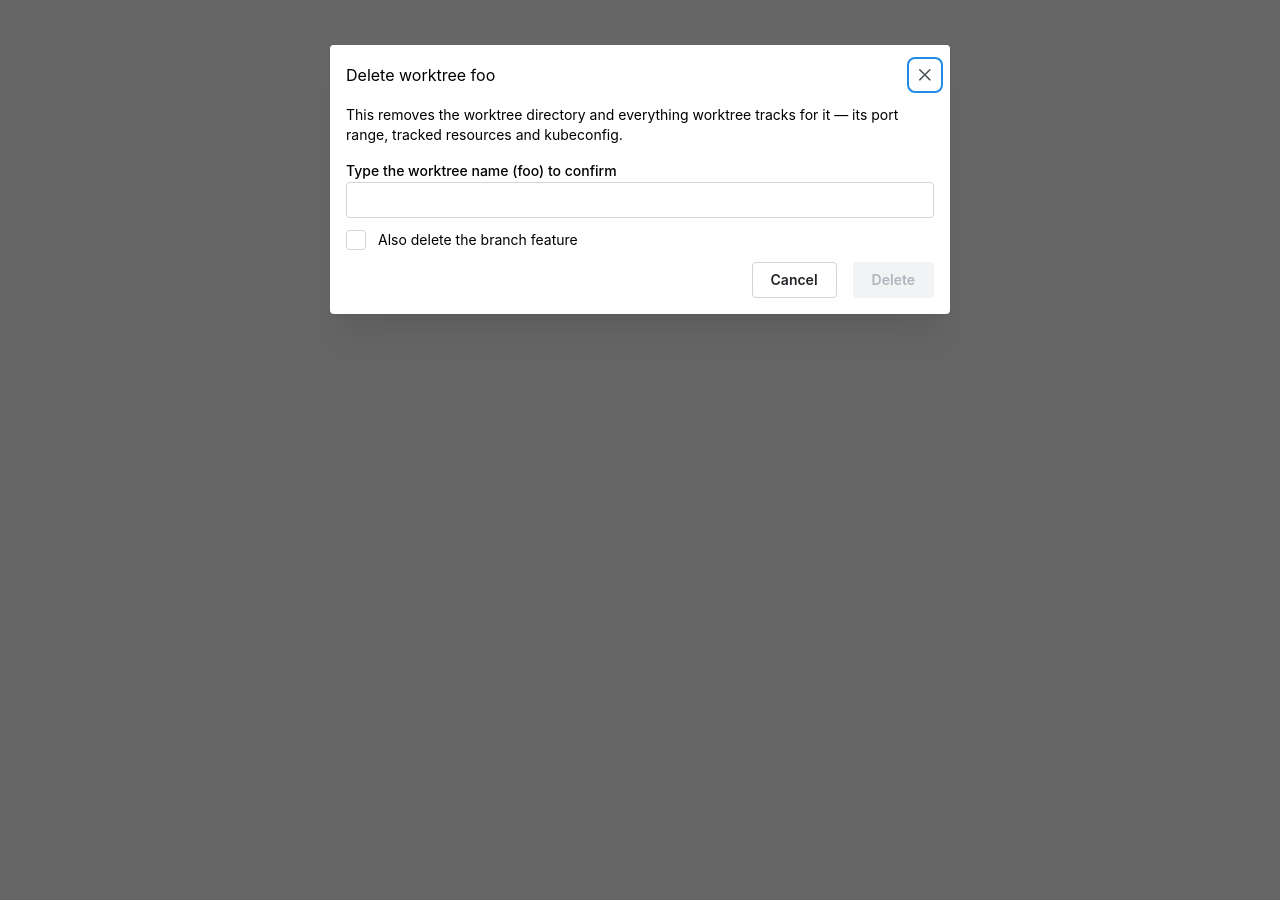
Test case: DeleteWorktreeModal › keeps the step list visible when the run fails outright
The width and height of the screenshot is (1280, 900).
Step 1. Type "foo" into the field labelled "Type the worktree name (foo) to confirm" → (640,200), box [346,182,934,218]
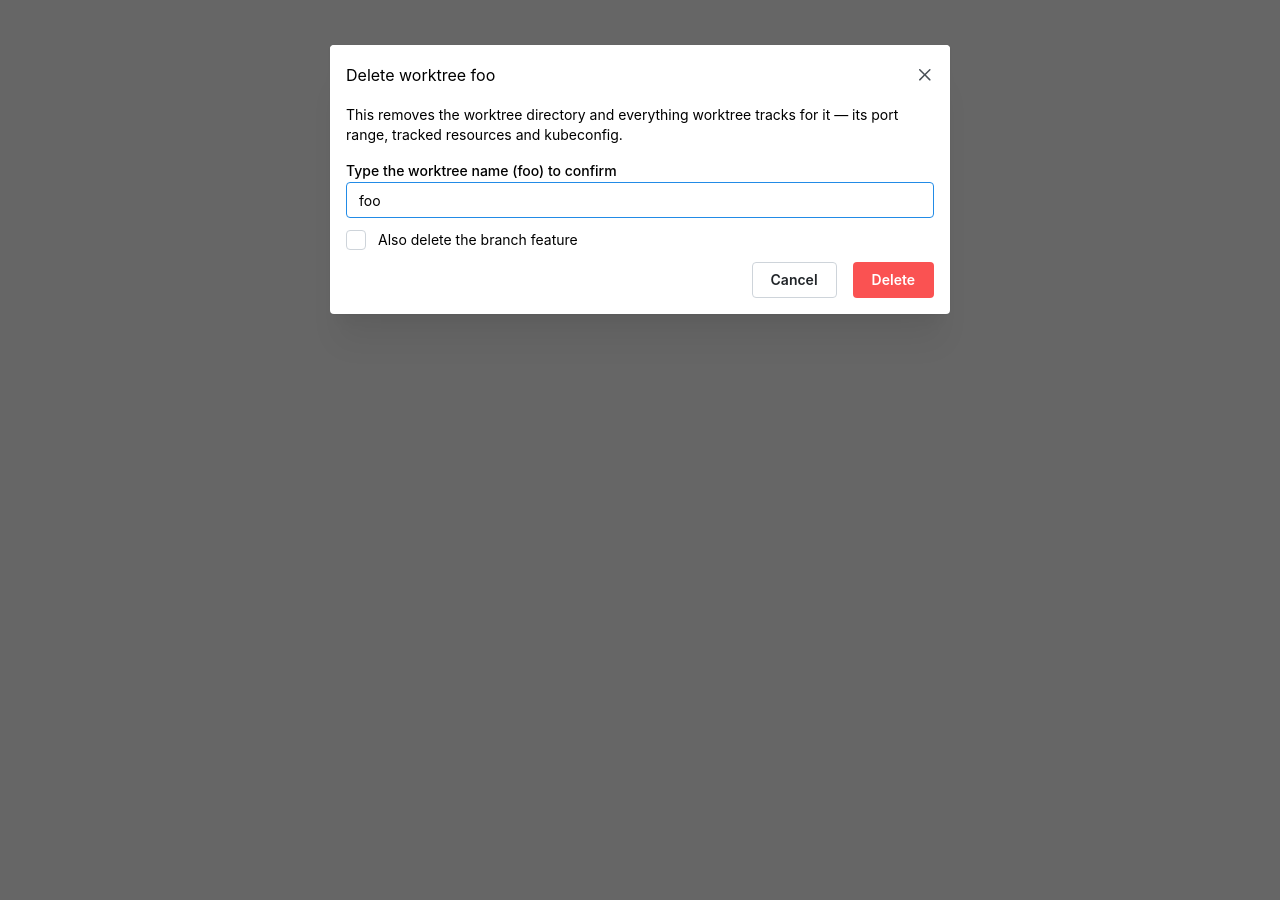
Step 2. Click the button "Delete" → (893,280), box [853,262,934,298]
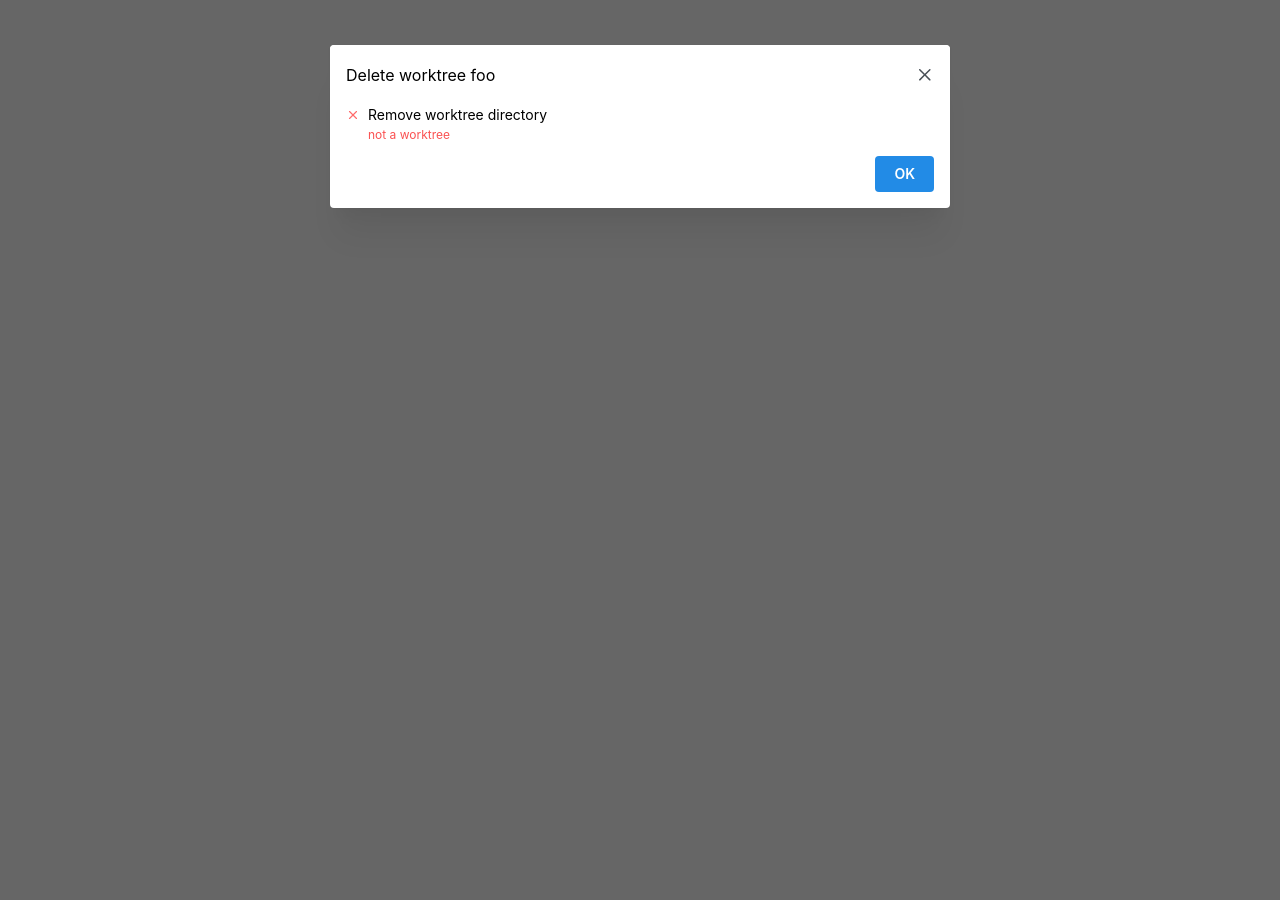
Expected: the text "Remove worktree directory" is shown, [368,105,547,125]
Expected: the text "not a worktree" is shown, [368,127,450,142]
